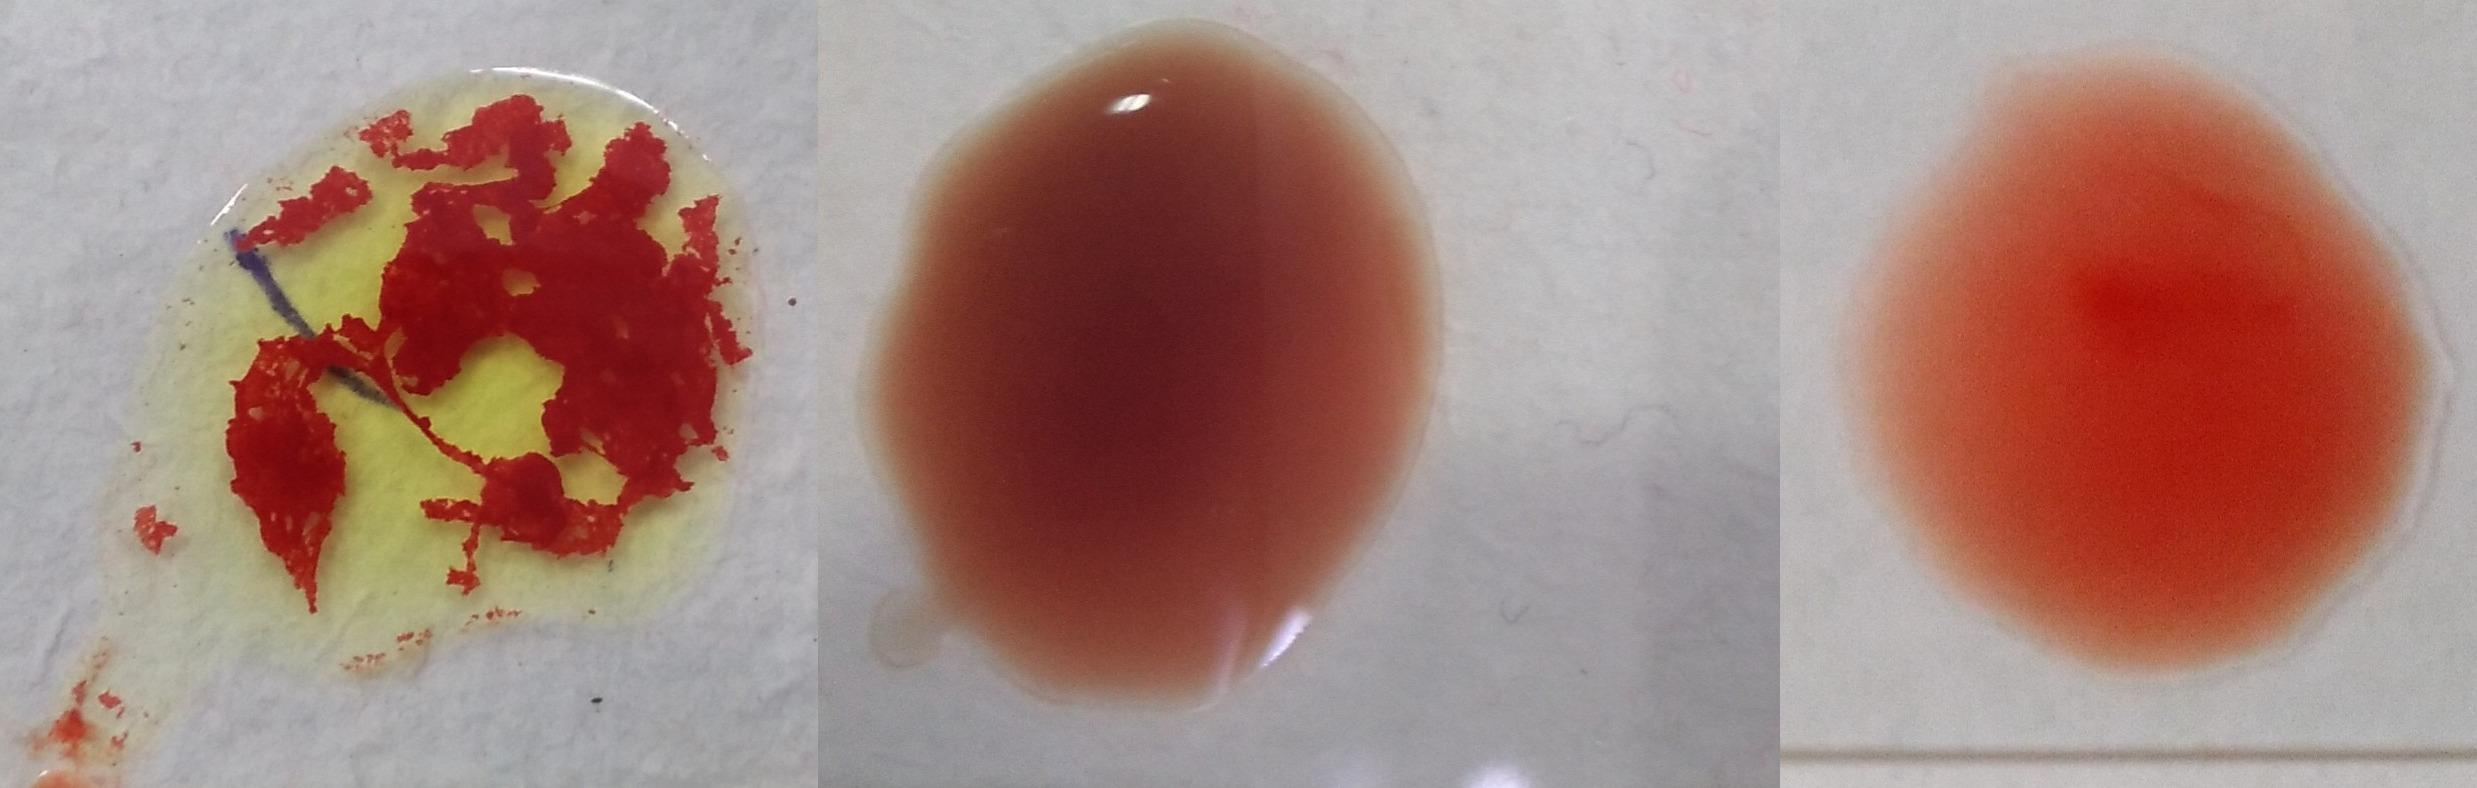B: (185, 68, 727, 660)
